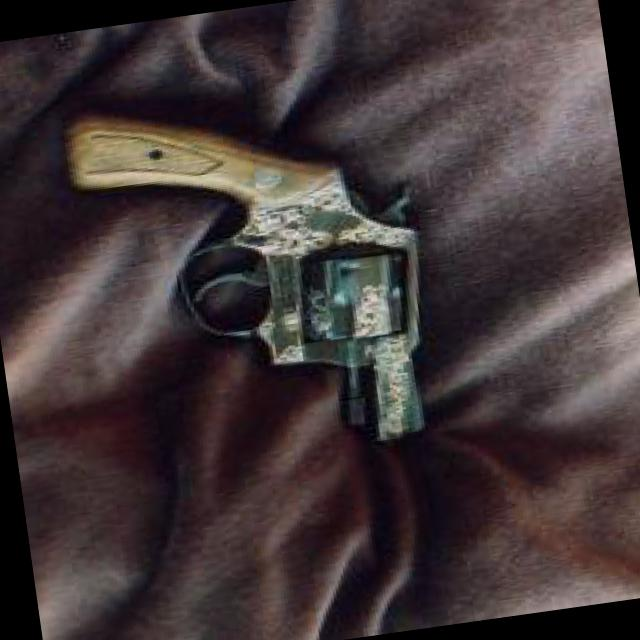handgun: (63, 64, 452, 484)
